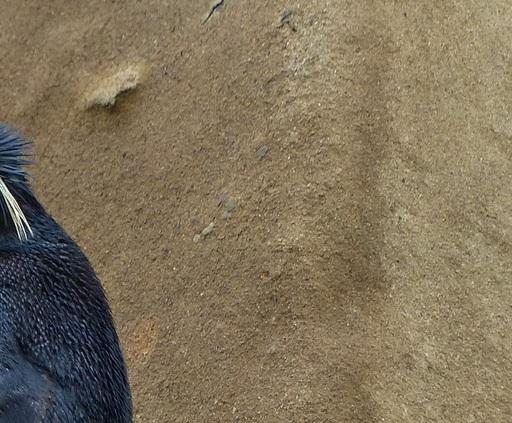Southern Rockhopper Penguin: (0, 88, 196, 423)
